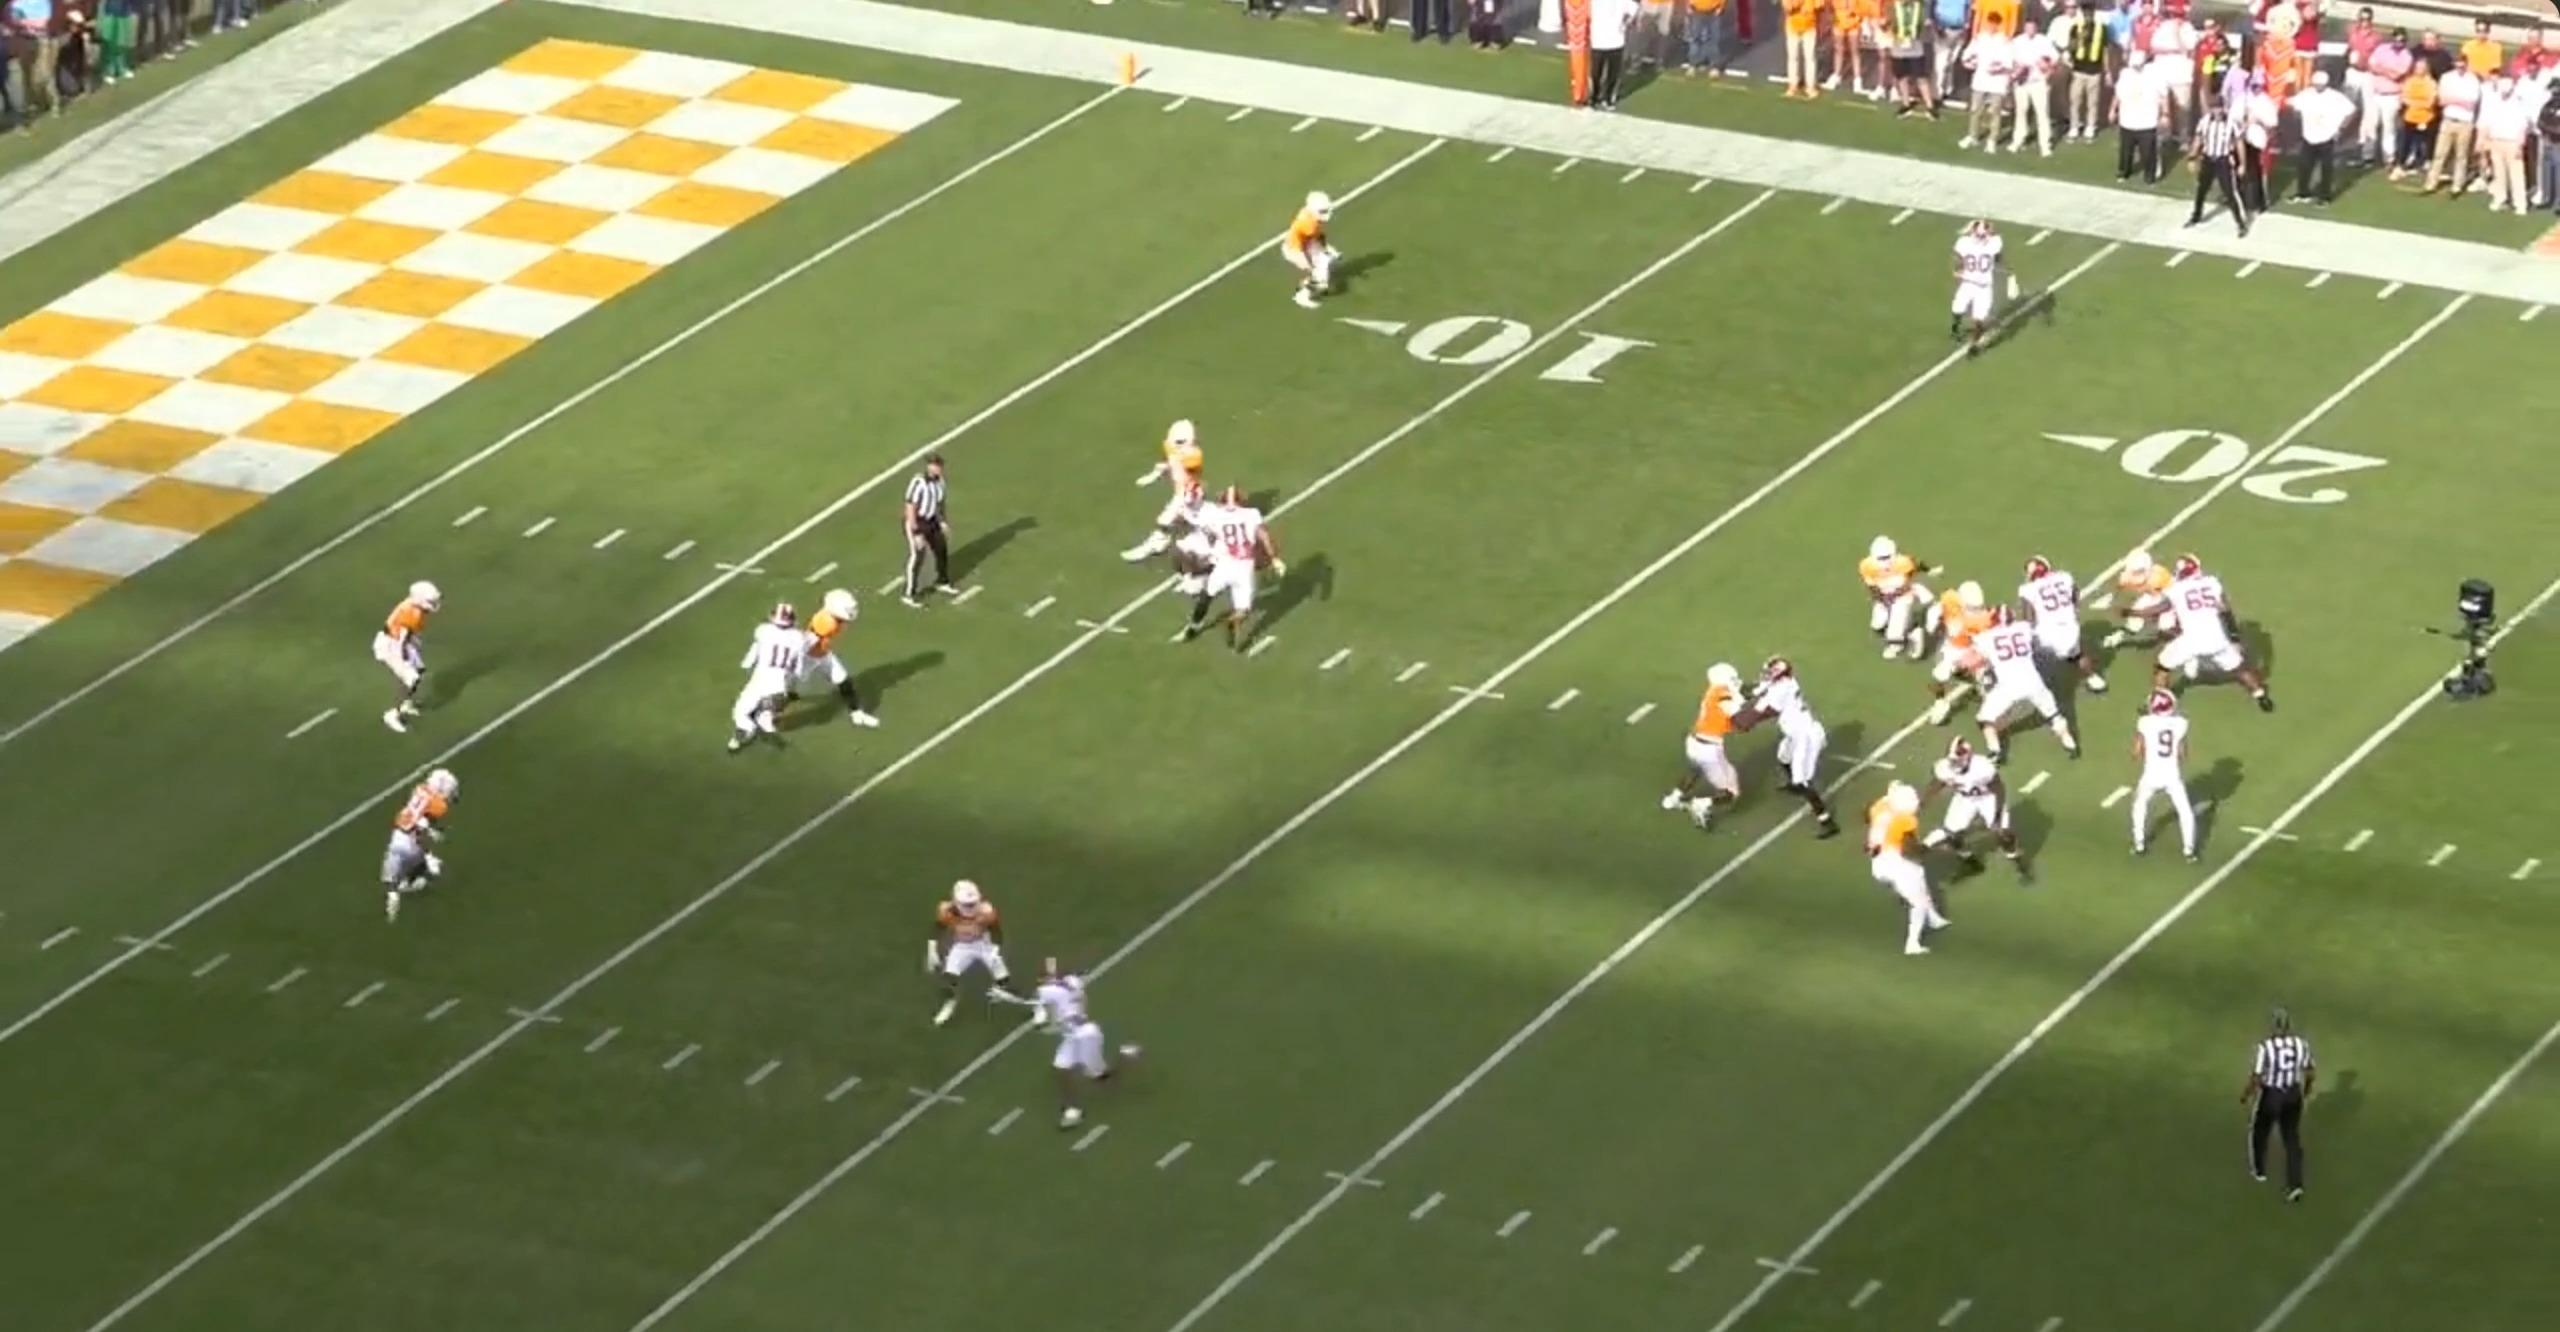defense: (928, 872, 1043, 1029), (1661, 665, 1761, 838), (1859, 767, 1949, 958), (381, 767, 467, 927), (1133, 415, 1217, 570), (797, 586, 884, 736), (1912, 582, 1994, 731), (372, 577, 447, 735), (1866, 531, 1942, 665), (1278, 184, 1354, 313), (2096, 548, 2177, 652)
oline: (2159, 553, 2282, 714), (1744, 653, 1840, 839), (1967, 611, 2086, 762), (1927, 741, 2035, 892), (2010, 555, 2101, 697)
qb: (2115, 692, 2194, 868)
ref: (2228, 999, 2320, 1200), (2189, 100, 2264, 244)
skill: (1028, 966, 1146, 1139), (1183, 484, 1285, 650), (725, 597, 816, 758), (1947, 220, 2022, 366), (1168, 477, 1216, 587)
